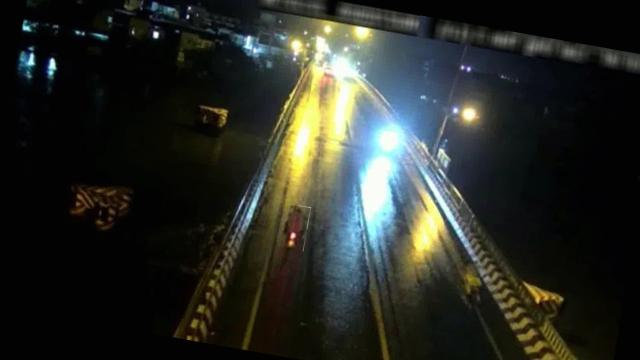Bike: (281, 204, 310, 252)
